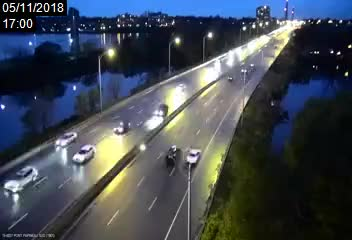personal_car: (4, 167, 39, 193), (71, 143, 96, 165), (56, 131, 77, 147), (112, 120, 131, 136), (185, 149, 201, 165), (154, 103, 169, 116)
